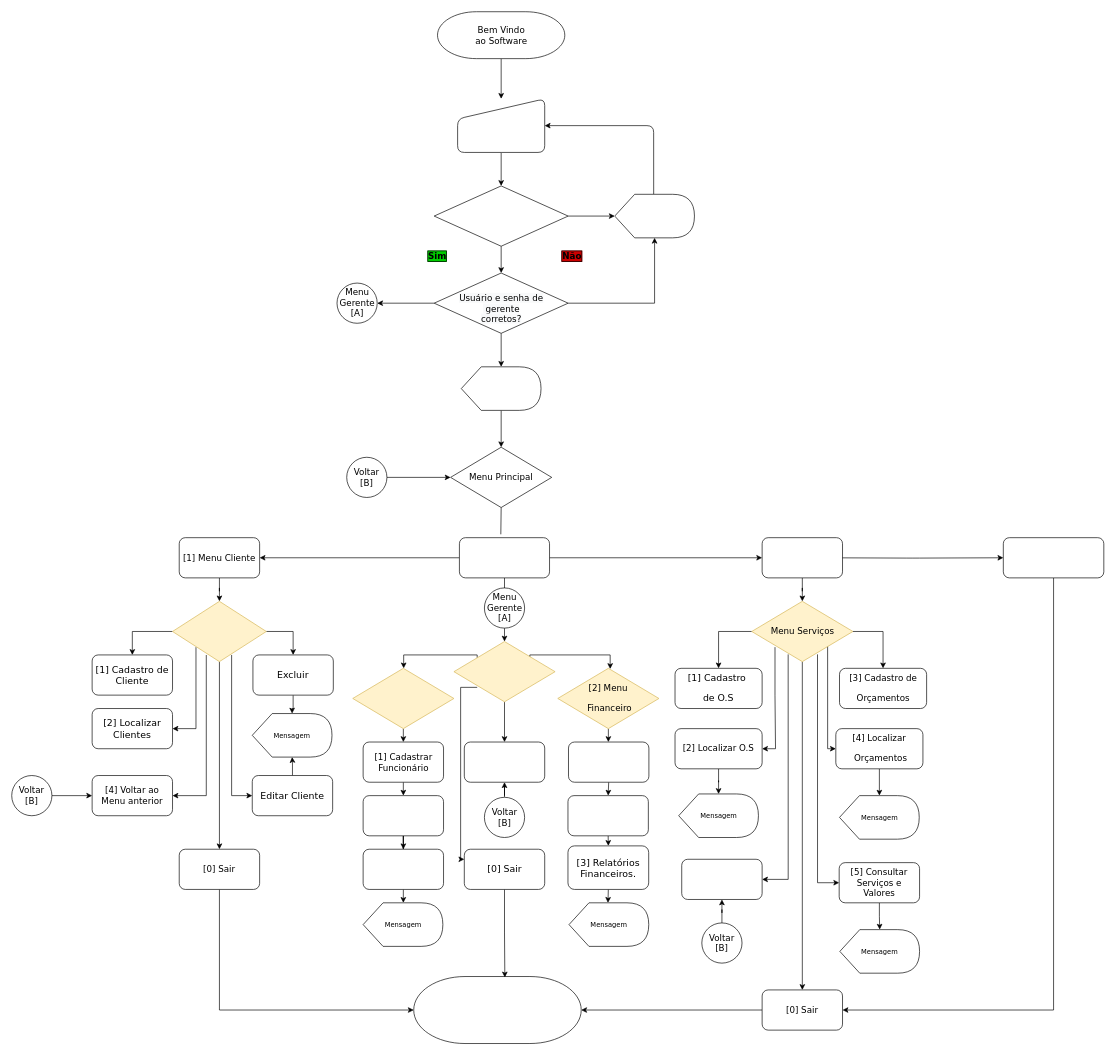
Some shapes in this 1116 by 1055 pixel diagram are drawn without their labels. Here are the shapes that lost their labels. From the top down, the box of each, then its label:
(457, 98, 545, 152): Tela de Login Principal
(433, 185, 568, 246): Usuário e senha de funcionario corretos?
(614, 194, 694, 238): Login e/ou senha Invalidos
(461, 366, 541, 410): Acesso Autorizado
(459, 537, 550, 578): [2] Menu Gerente
(761, 537, 843, 578): [3] Menu Serviços
(1003, 537, 1104, 578): Opção[0] Sair
(172, 601, 266, 662): Menu Cliente
(453, 641, 555, 702): Menu Gerente
(352, 668, 454, 729): [1] Menu Funcionário
(464, 741, 545, 782): [3] Voltar ao menu anterior
(568, 741, 649, 782): [1] Despesas Mensais
(362, 795, 444, 836): [2] Localizar Funcionario
(567, 795, 648, 836): [2] Ganhos Mensais
(362, 849, 444, 889): [3] Editar Funcionário
(681, 859, 762, 899): [6] Voltar ao menu anterior
(413, 976, 581, 1044): PROGRAMA ENCERRADO
